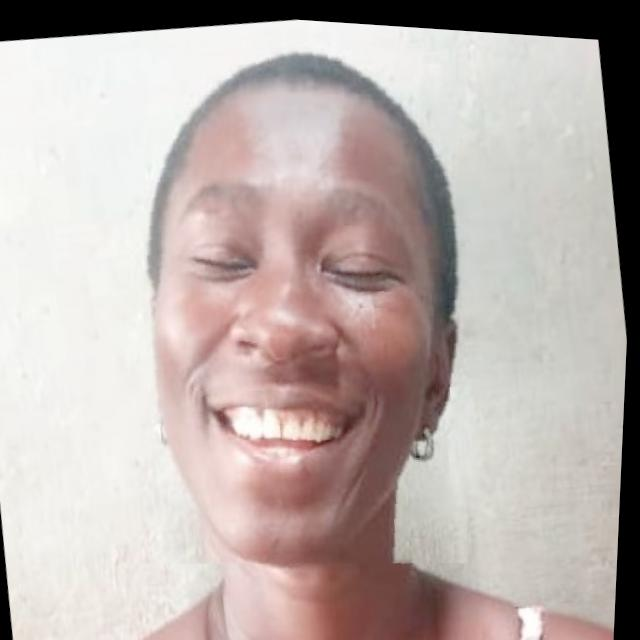happy: (86, 8, 518, 597)
